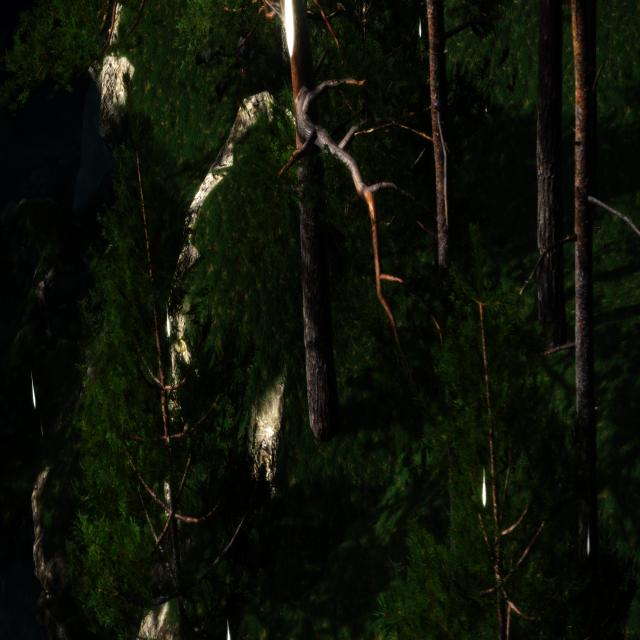Human: (198, 2, 264, 108)
